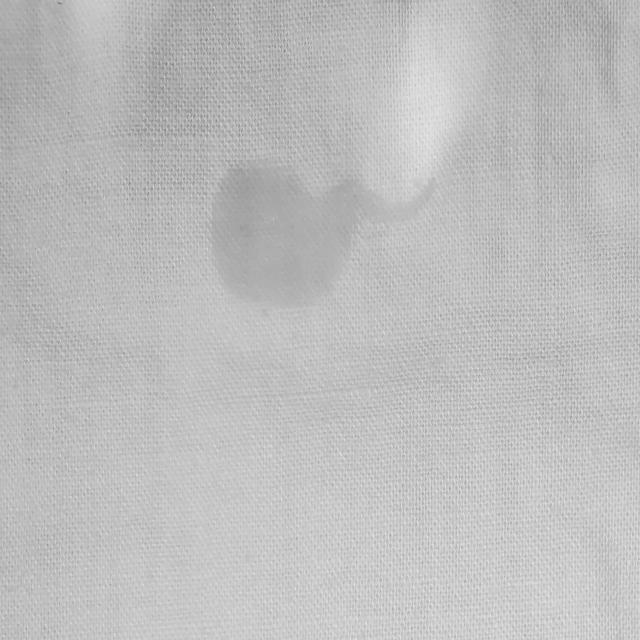Stain: (211, 165, 436, 306)
